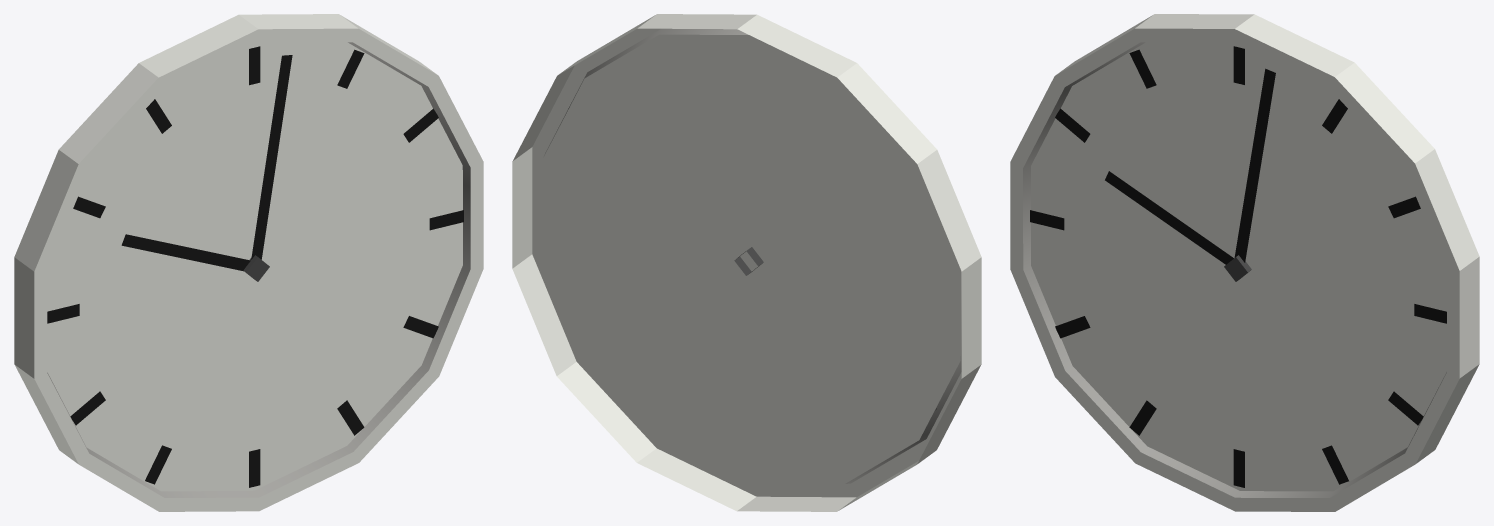
File: Clock.fbx
3 renders of one model, left to right at view 1: azimuth 30°, elevation 25°; view 2: azimuth 150°, elevation 25°; view 3: azimuth 330°, elevation 25°, orthographic.
Visible parts, largest first — view 1: Clock; view 2: Clock; view 3: Clock.
Part boxes in pixels (left/top/right/bottom): Clock: left=14, top=14, right=483, bottom=511; Clock: left=512, top=14, right=981, bottom=511; Clock: left=1010, top=14, right=1479, bottom=511.
Size of the model in its own units: 0.7802 by 0.8 by 0.06.
1 material, 1 textured.
